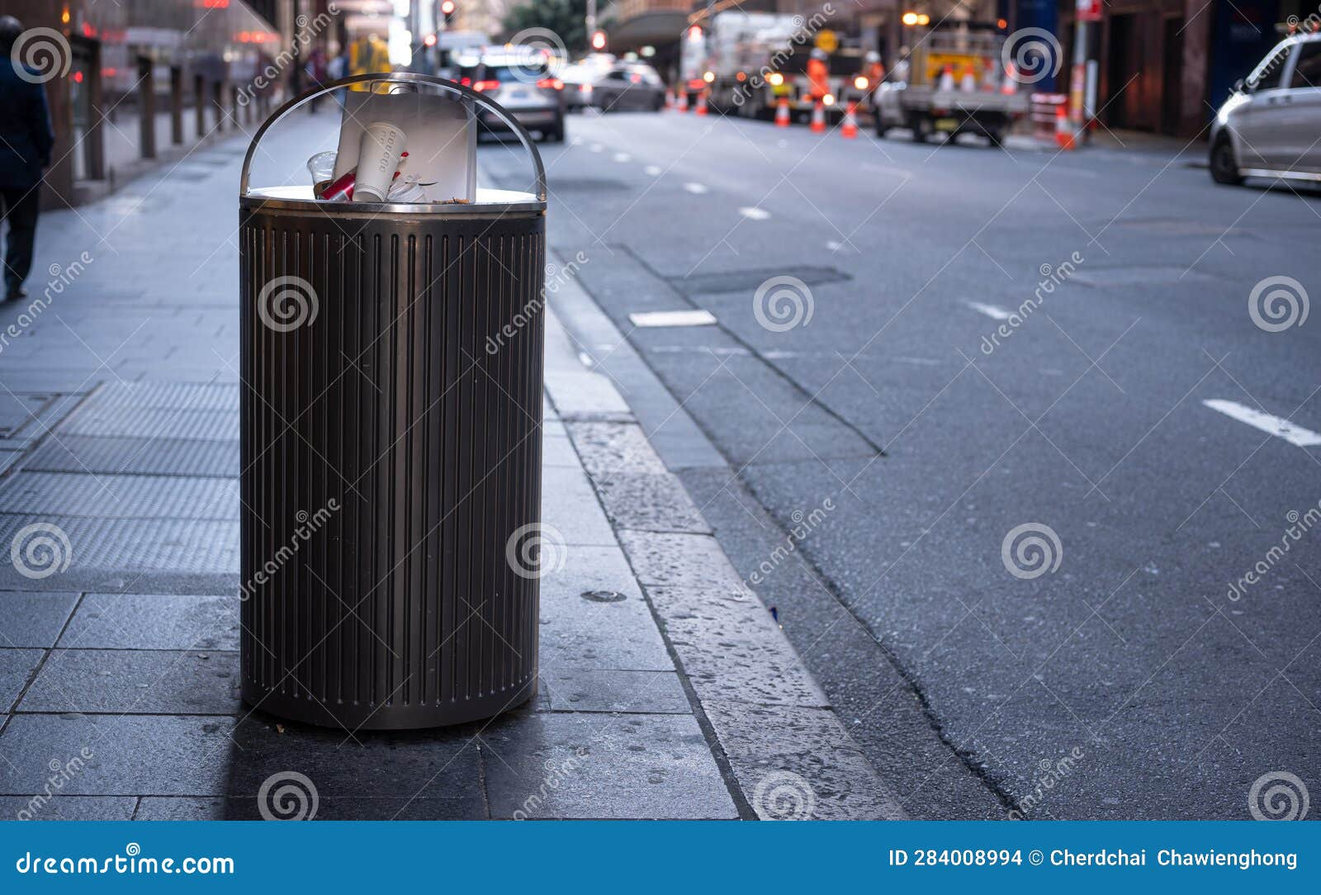empty: (873, 11, 1061, 147)
